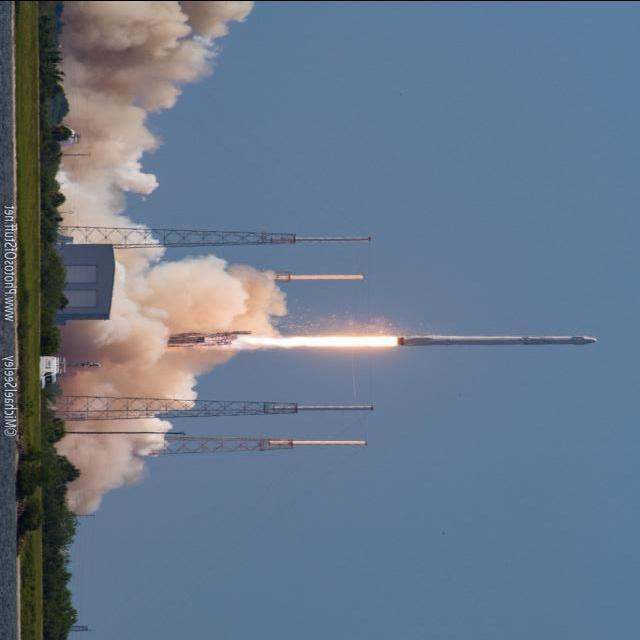missile: (374, 331, 603, 351), (264, 402, 382, 412), (270, 436, 374, 447), (269, 271, 373, 280), (279, 234, 373, 243)
